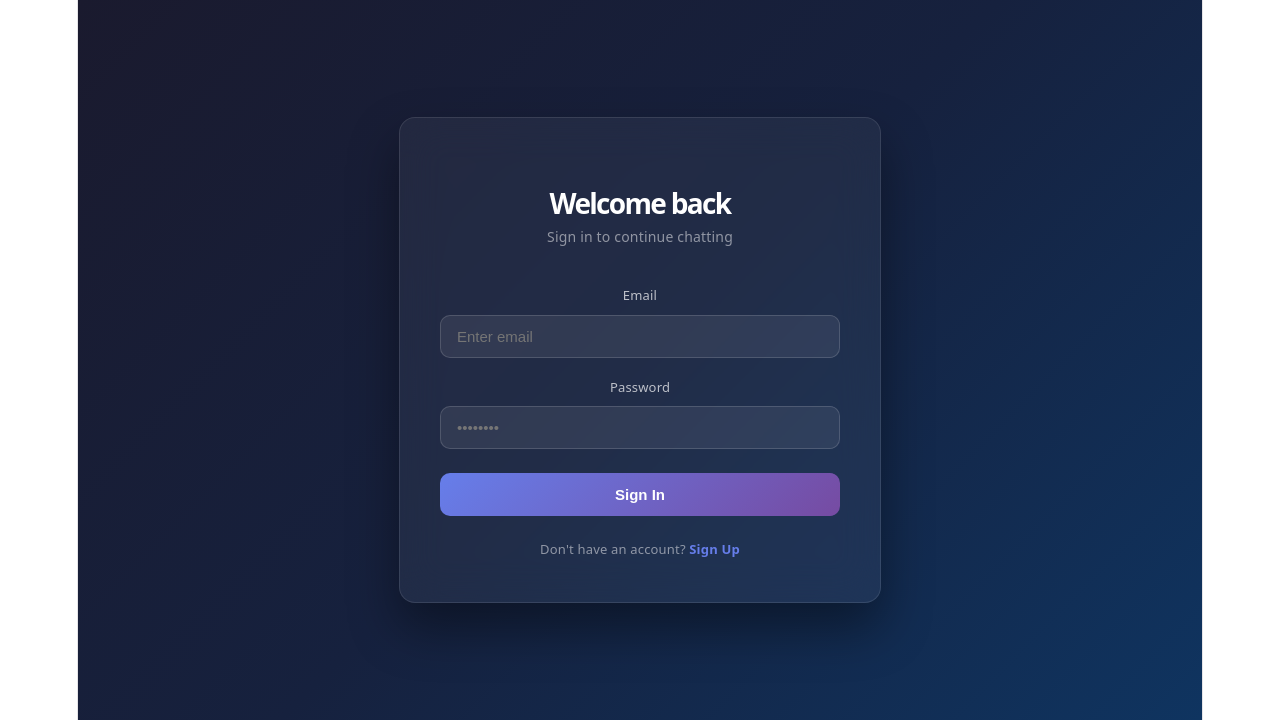
Security Tests › SQL injection: payload in login email field is sent as plain text to API
This screenshot has width=1280, height=720.
In the field with placeholder "Enter email": [640, 336] box [440,314,840,358], type "' OR '1'='1"
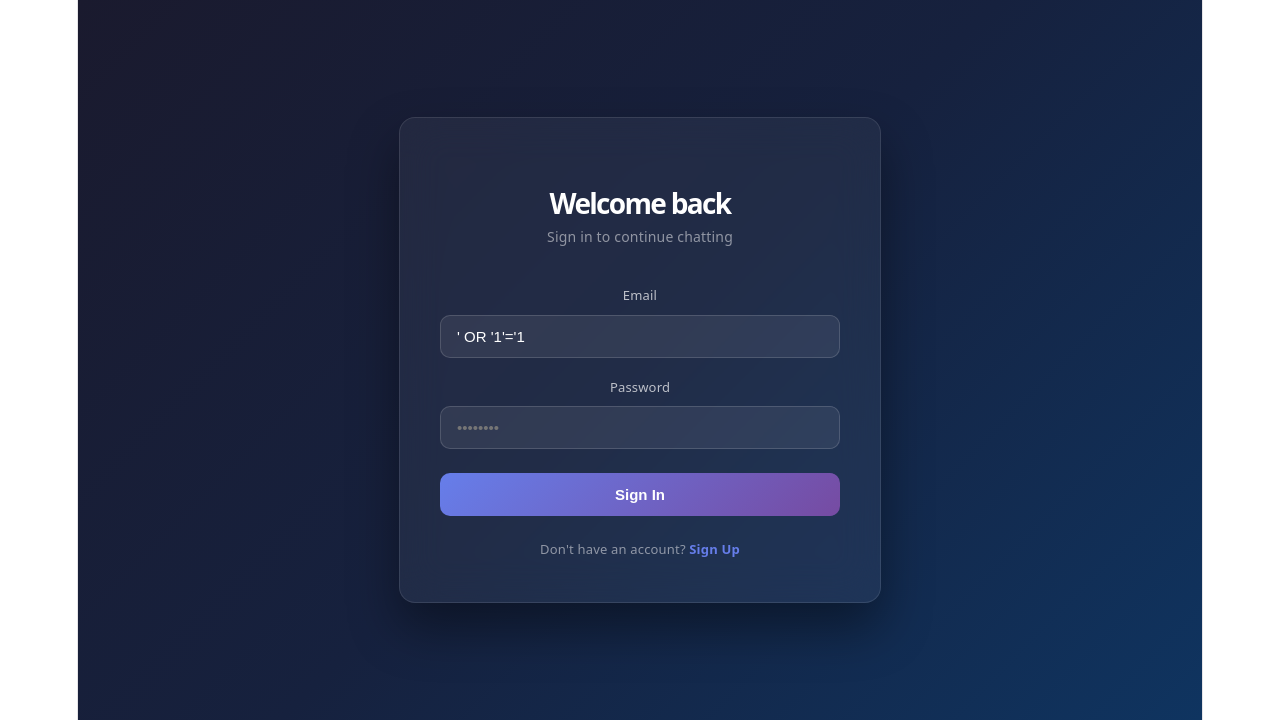
In the password field with placeholder "••••••••": [640, 427] box [440,406,840,449], type "password"
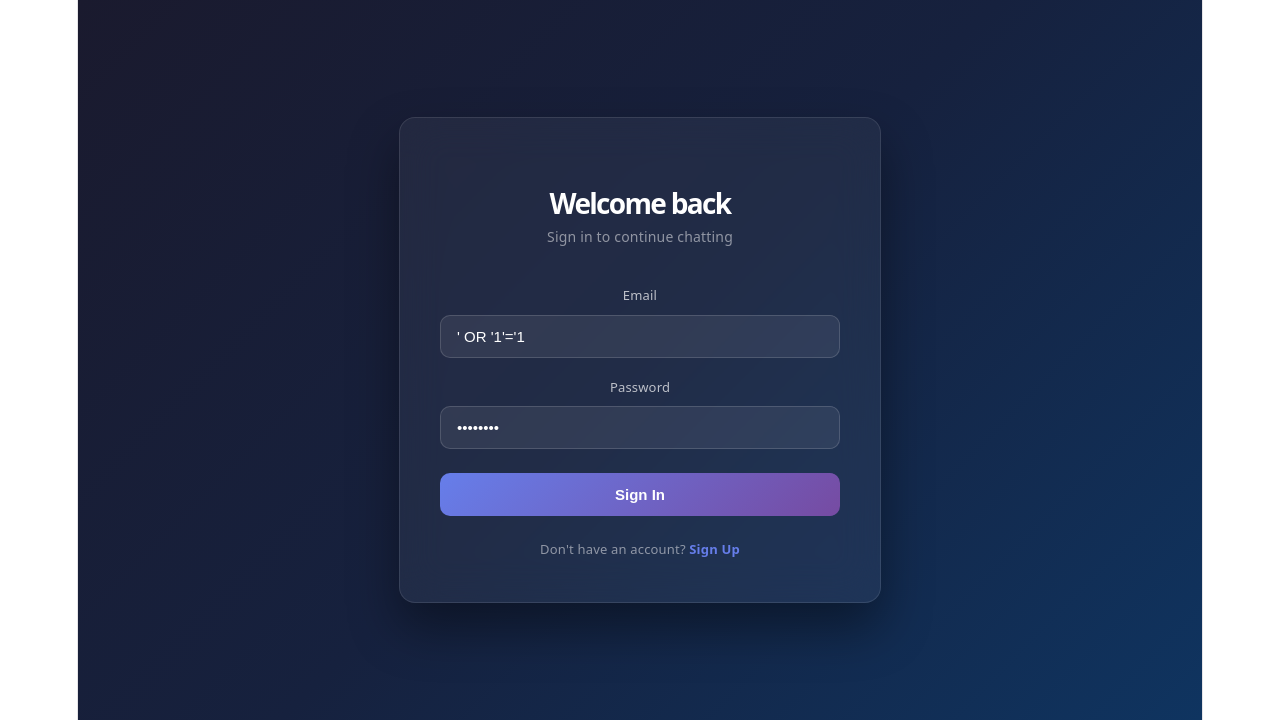
Click the button "Sign In": [640, 494] box [440,473,840,516]
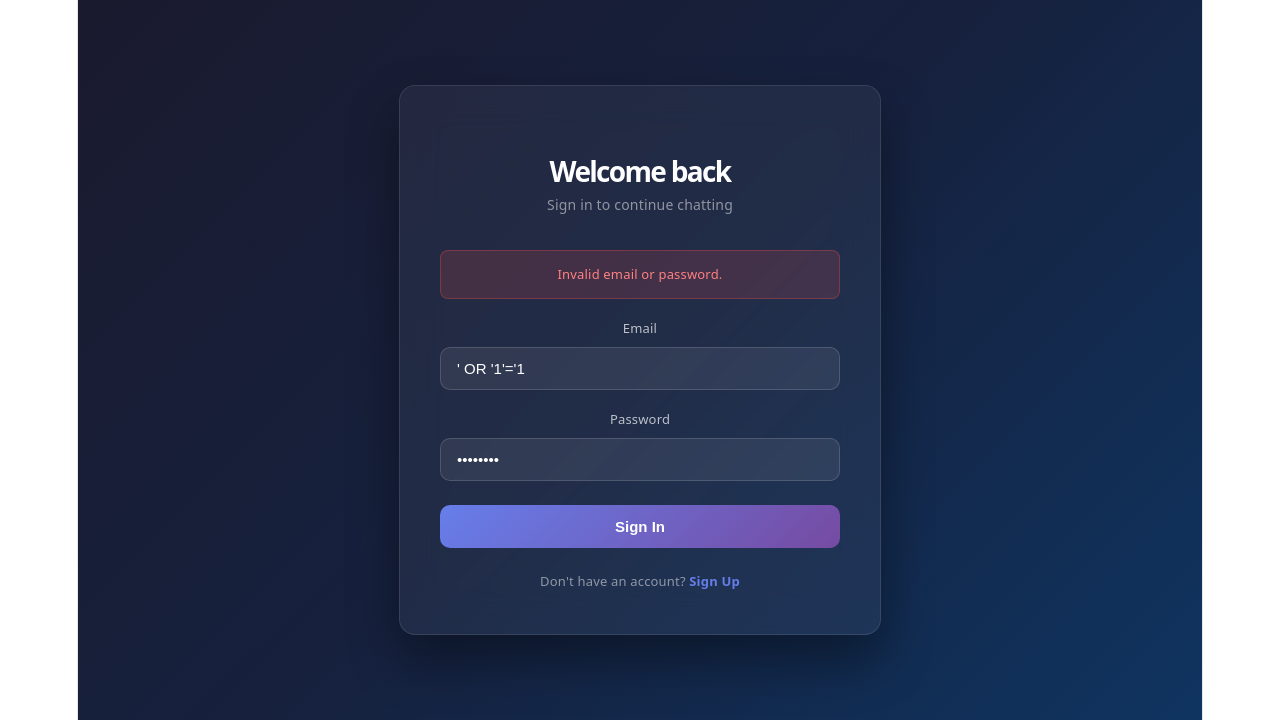
Now the text "Invalid email or password." is shown, box [440,250,840,298]
